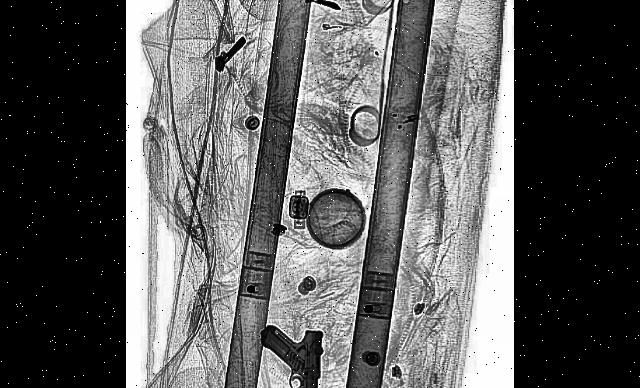Gun: (256, 316, 323, 388)
